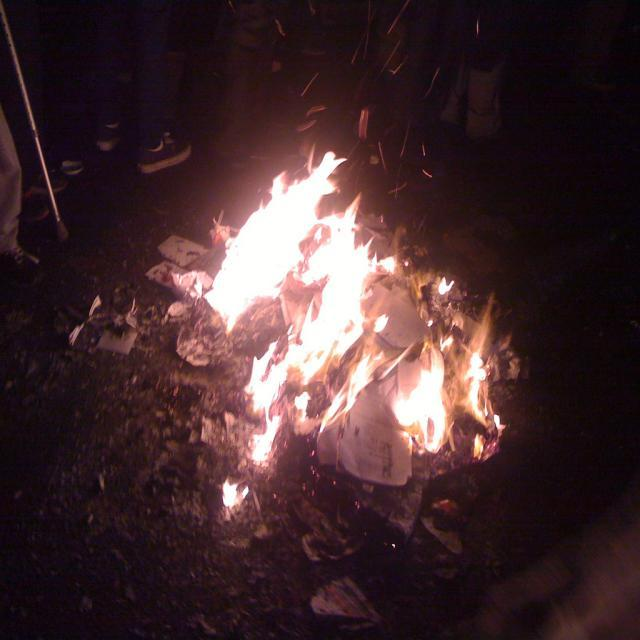Fire: (230, 186, 368, 382)
